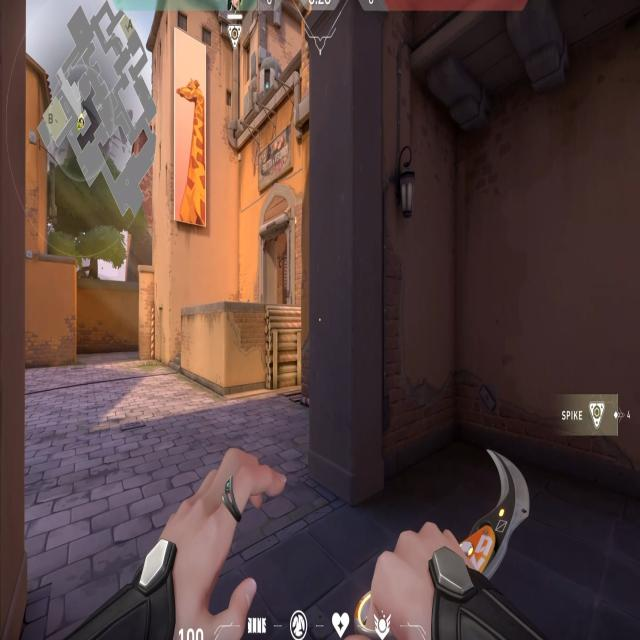B_Cubby: (219, 292, 302, 388)
